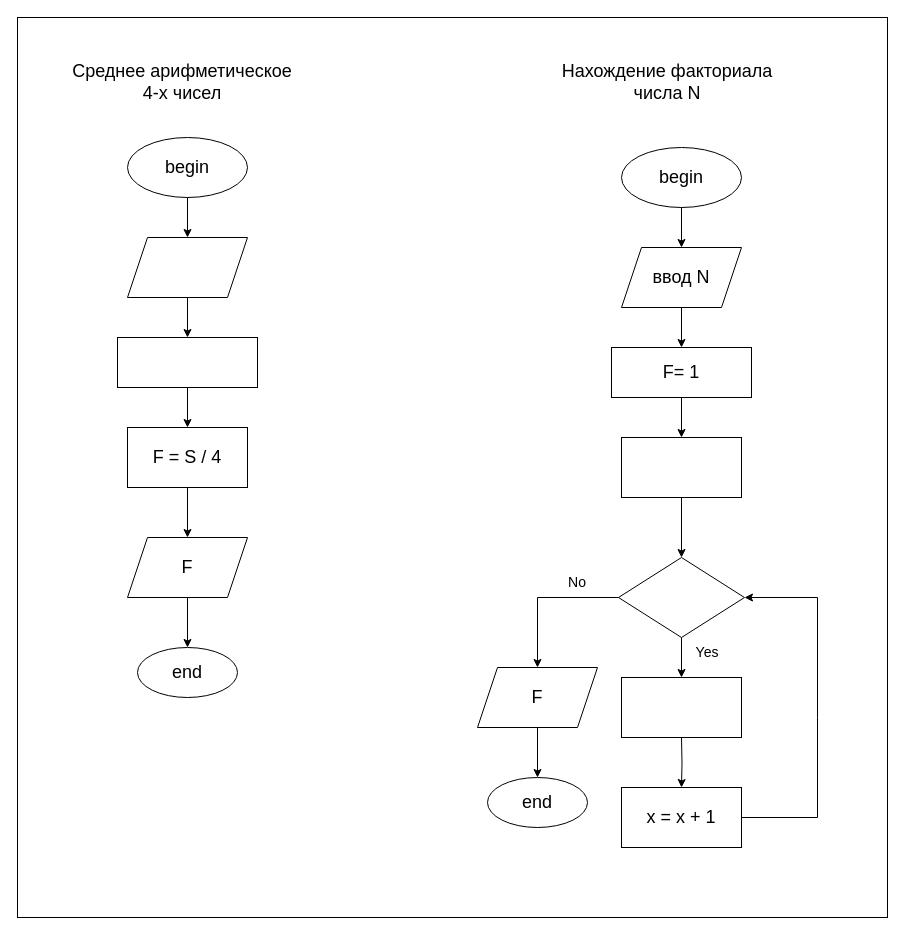
The diagram is 905 pixels wide and 935 high, and some of its shapes have lost their labels. Each missing label, with the box of its shape:
a, b, c, d: (126, 236, 248, 298)
F = F * x: (620, 676, 742, 738)
S = a + b + c + d: (116, 336, 258, 388)
x <= N ?: (618, 556, 744, 638)
x = 1: (620, 436, 742, 498)
